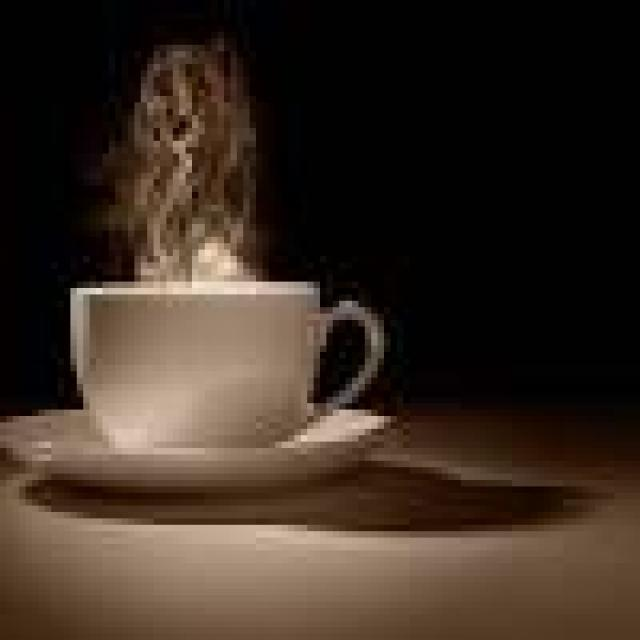taza: (65, 260, 392, 460)
